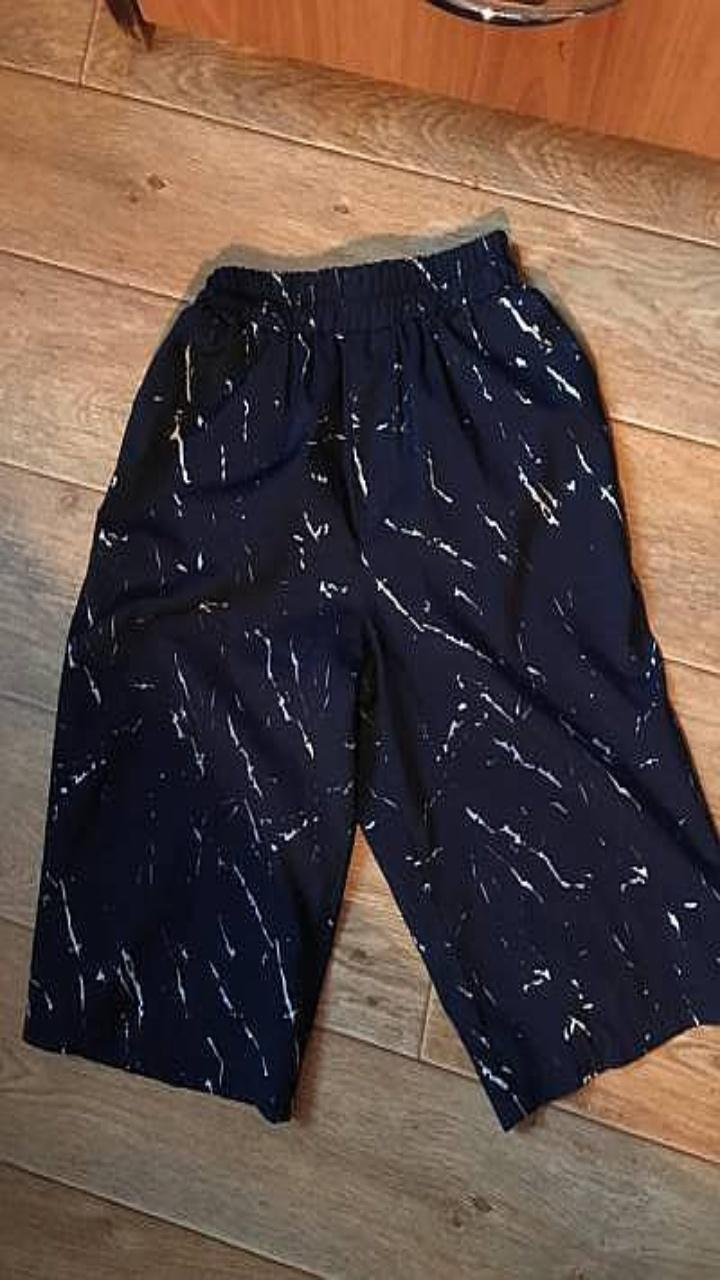Shorts: (23, 230, 719, 1129)
